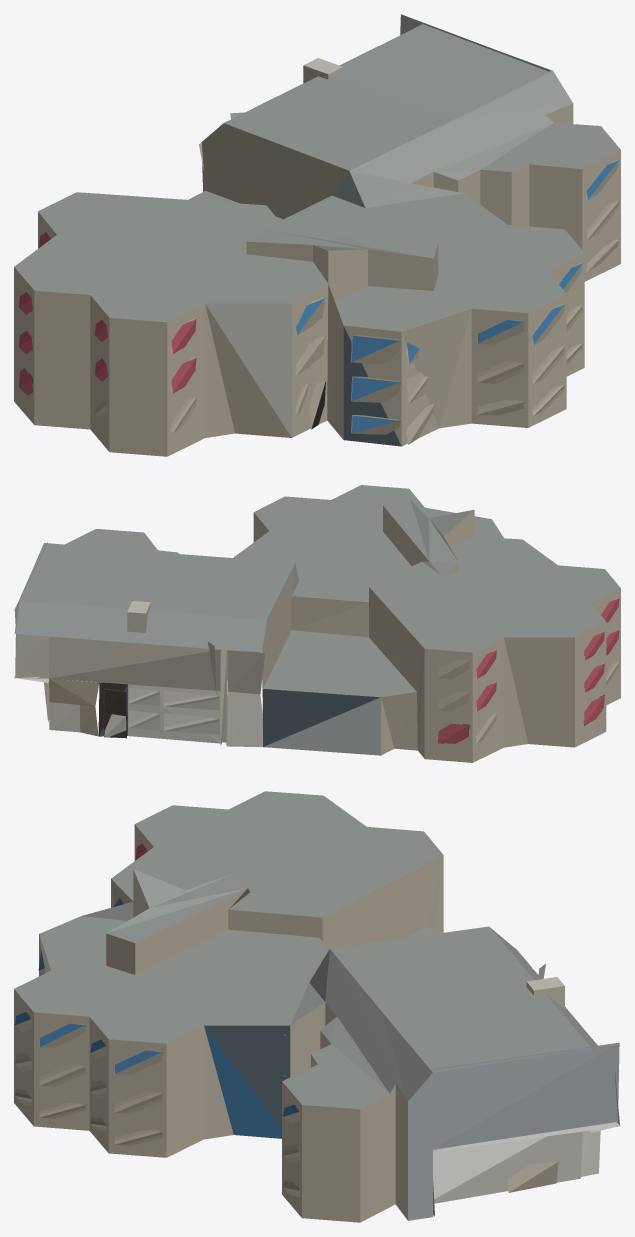
Rendered from jungle-swindenstraat.lod2.glb.
3 renders of one model, top to bottom at view 1: azimuth 30°, elevation 25°; view 2: azimuth 150°, elevation 25°; view 3: azimuth 270°, elevation 25°, orthographic. The views are drawn at different scales.
Parts seen in each view (by area): view 1: lod2; view 2: lod2; view 3: lod2.
Part boxes in pixels (x1,y1,x2,y2): lod2: (14,14,620,456); lod2: (14,485,620,762); lod2: (14,791,620,1222).
Bounding box in the file's own units: 58.49 × 15.22 × 50.35.
